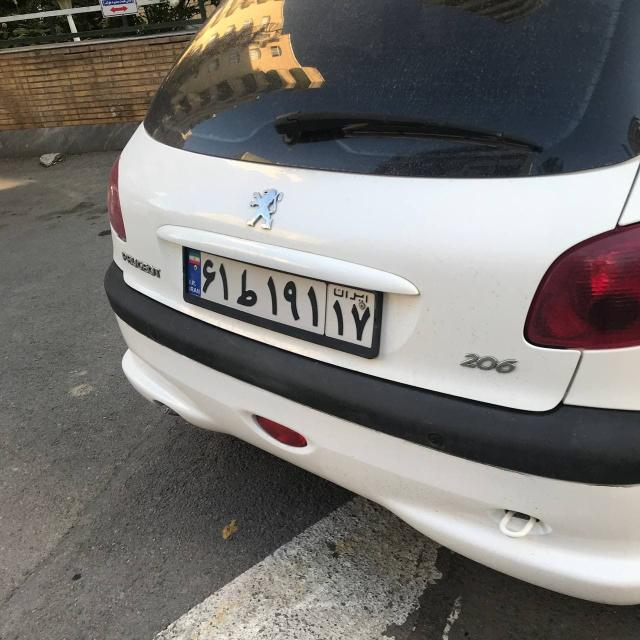Plates: (173, 249, 384, 349)
